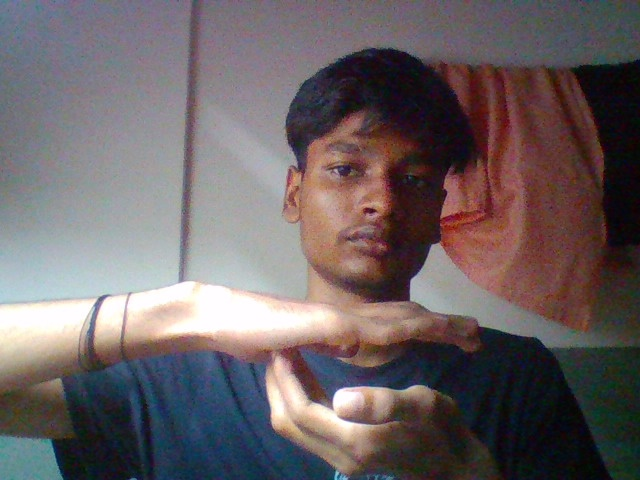J: (102, 260, 533, 480)
